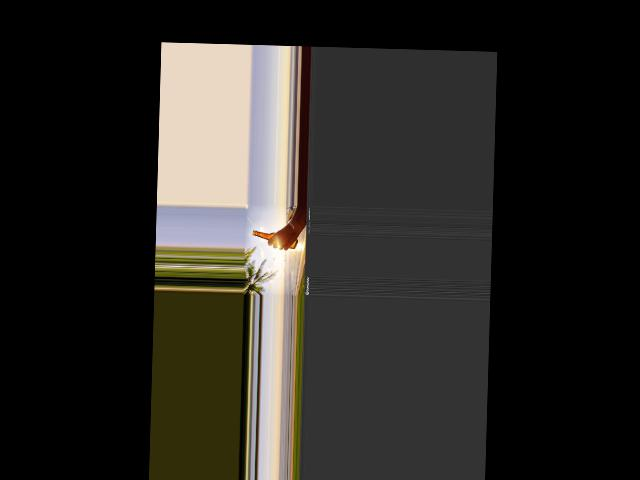beer: (252, 229, 298, 248)
